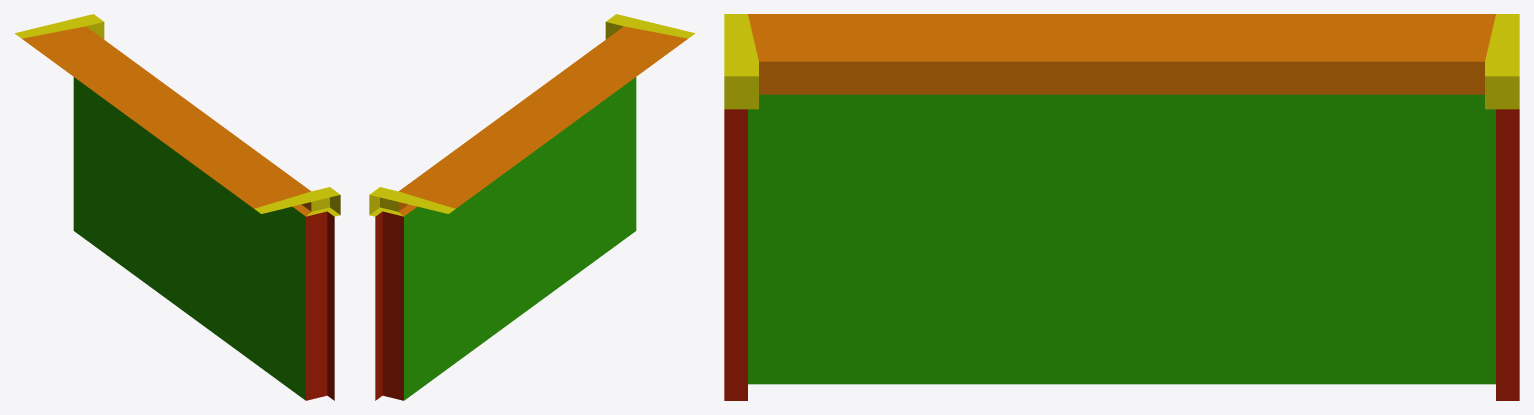
The model's file is mur.fbx.
3 views of the same model, side by side, from view 1: azimuth 30°, elevation 25°; view 2: azimuth 150°, elevation 25°; view 3: azimuth 270°, elevation 25° (orthographic). The views are drawn at different scales.
Parts seen in each view (by area): view 1: wall1; view 2: wall1; view 3: wall1.
Boxes of the visible parts, <box> form: wall1: <box>15,14,340,400</box>; wall1: <box>369,14,694,400</box>; wall1: <box>724,14,1519,400</box>.
Bounding box in the file's own units: 306 × 754 × 1650.
